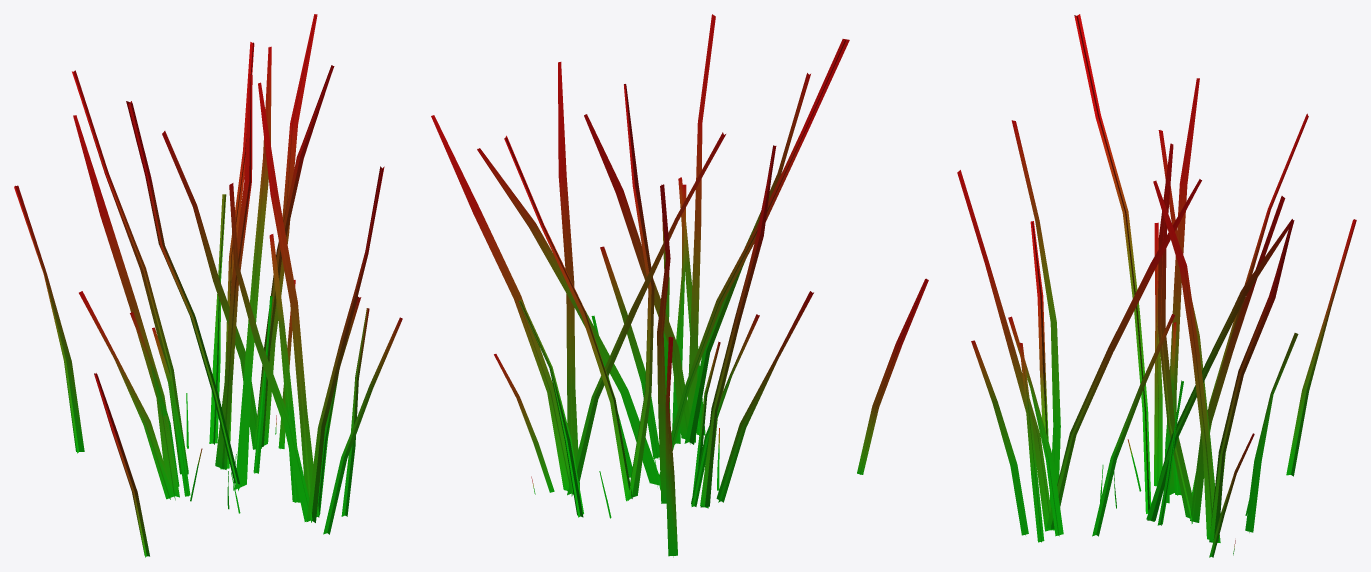
File: ueyoebmia_Var1_LOD0.fbx
3 views of the same model, side by side, from view 1: azimuth 30°, elevation 25°; view 2: azimuth 150°, elevation 25°; view 3: azimuth 270°, elevation 25° (orthographic). The views are drawn at different scales.
Parts seen in each view (by area): view 1: _8fbe_Var1_LOD0; view 2: _8fbe_Var1_LOD0; view 3: _8fbe_Var1_LOD0.
Part boxes in pixels (x1,y1,x2,y2): _8fbe_Var1_LOD0: (14, 14, 402, 557); _8fbe_Var1_LOD0: (431, 14, 928, 557); _8fbe_Var1_LOD0: (957, 14, 1356, 557).
Bounding box in the file's own units: 15.04 × 18.26 × 15.04.
